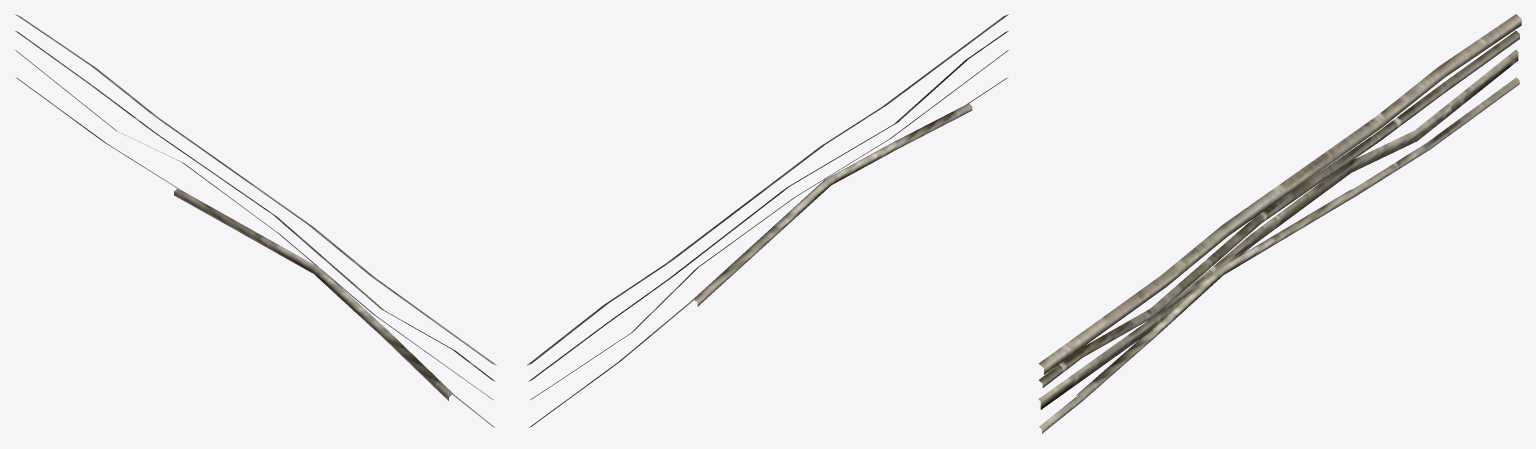
File: prodcables128.glb
The picture shows the model from 3 angles, left to right: view 1: azimuth 30°, elevation 25°; view 2: azimuth 150°, elevation 25°; view 3: azimuth 330°, elevation 25°; orthographic projection.
Visible parts, largest first — view 1: 0_prodwlla; view 2: 0_prodwlla; view 3: 0_prodwlla.
Boxes of the visible parts, bbox=[...] form: 0_prodwlla: bbox=[15, 14, 496, 427]; 0_prodwlla: bbox=[527, 14, 1008, 427]; 0_prodwlla: bbox=[1038, 14, 1521, 433].
Bounding box in the file's own units: 0.0375 × 0.2831 × 3.25.
Materials: 1 (1 with a texture image).
